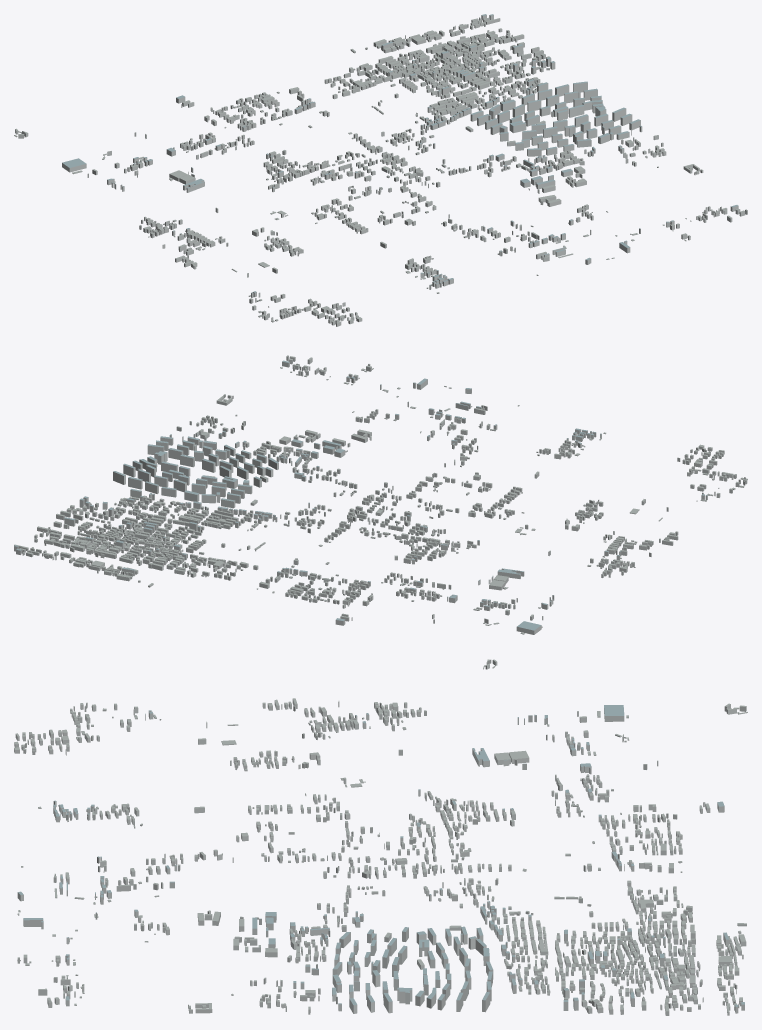
Rendered from far.glb.
3 views of the same model, one above another, from view 1: azimuth 30°, elevation 25°; view 2: azimuth 150°, elevation 25°; view 3: azimuth 270°, elevation 25° (orthographic). The views are drawn at different scales.
Size of the model in its own units: 2133 by 38.55 by 2114.
